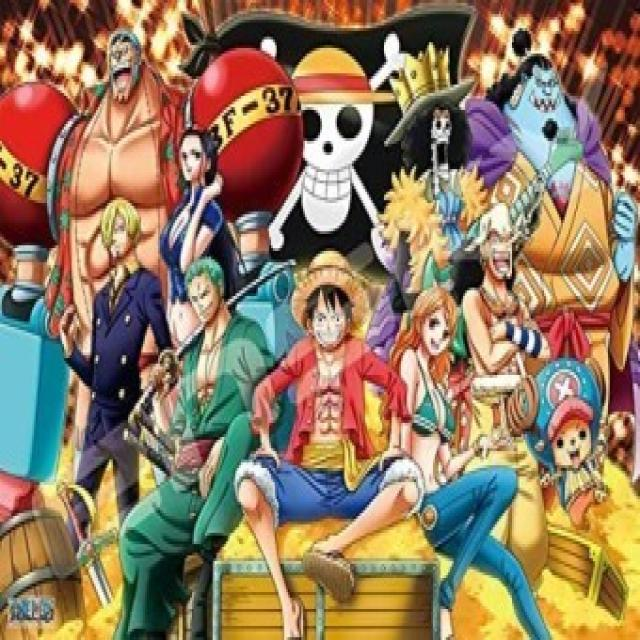Blook: (391, 55, 492, 204)
Chyopa: (504, 332, 620, 535)
Franky: (89, 20, 164, 124)
Luffy: (281, 248, 379, 360)
Nami: (392, 270, 470, 376)
NicoRobin: (153, 119, 236, 232)
Sangdi: (76, 187, 152, 294)
Usopp: (454, 194, 547, 304)
Zoro: (169, 247, 249, 337)
